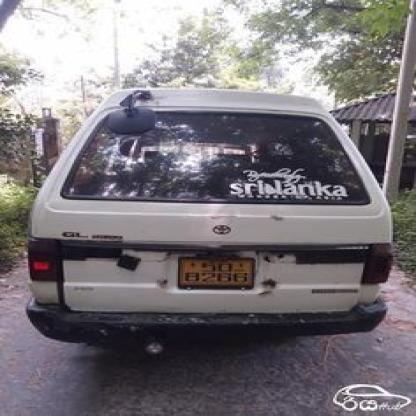number plate: (177, 254, 253, 290)
van back: (16, 82, 405, 362)
